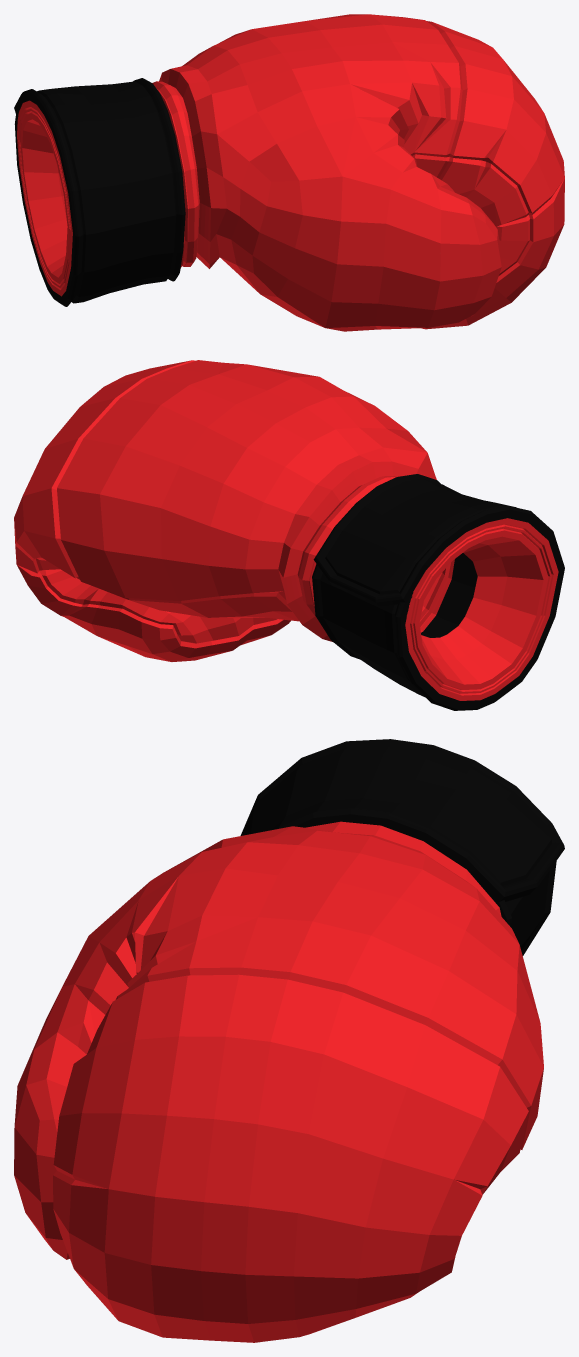
Rendered from player1_glove.fbx.
3 renders of one model, top to bottom at view 1: azimuth 30°, elevation 25°; view 2: azimuth 150°, elevation 25°; view 3: azimuth 270°, elevation 25°, orthographic. The views are drawn at different scales.
Visible parts, largest first — view 1: node_id6 (×2); view 2: node_id6 (×2); view 3: node_id6 (×2).
Boxes of the visible parts, <box> form: node_id6 (×2): <box>14,14,564,331</box>; node_id6 (×2): <box>14,360,564,710</box>; node_id6 (×2): <box>14,739,564,1342</box>.
Bounding box in the file's own units: 0.5266 × 0.2887 × 0.3671.
Materials: 2 (2 with a texture image).
